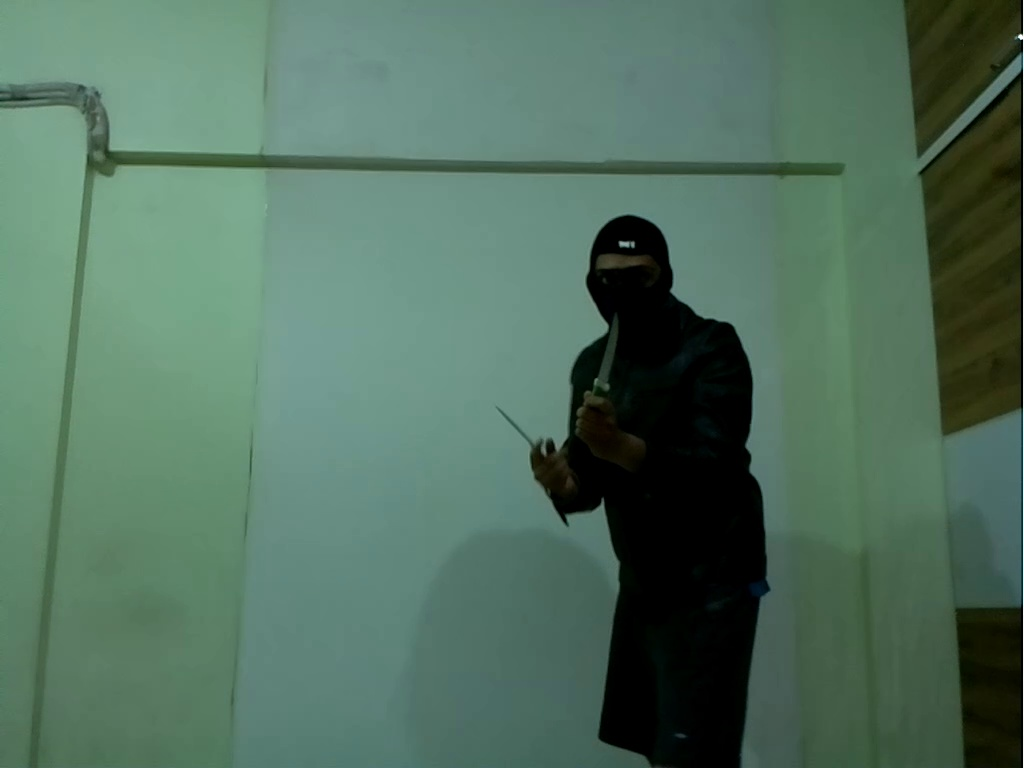knife: (584, 315, 628, 412)
